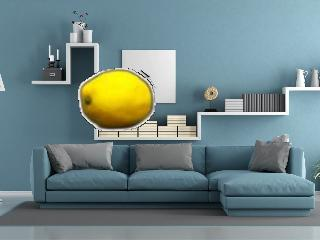lemon: (79, 70, 153, 128)
